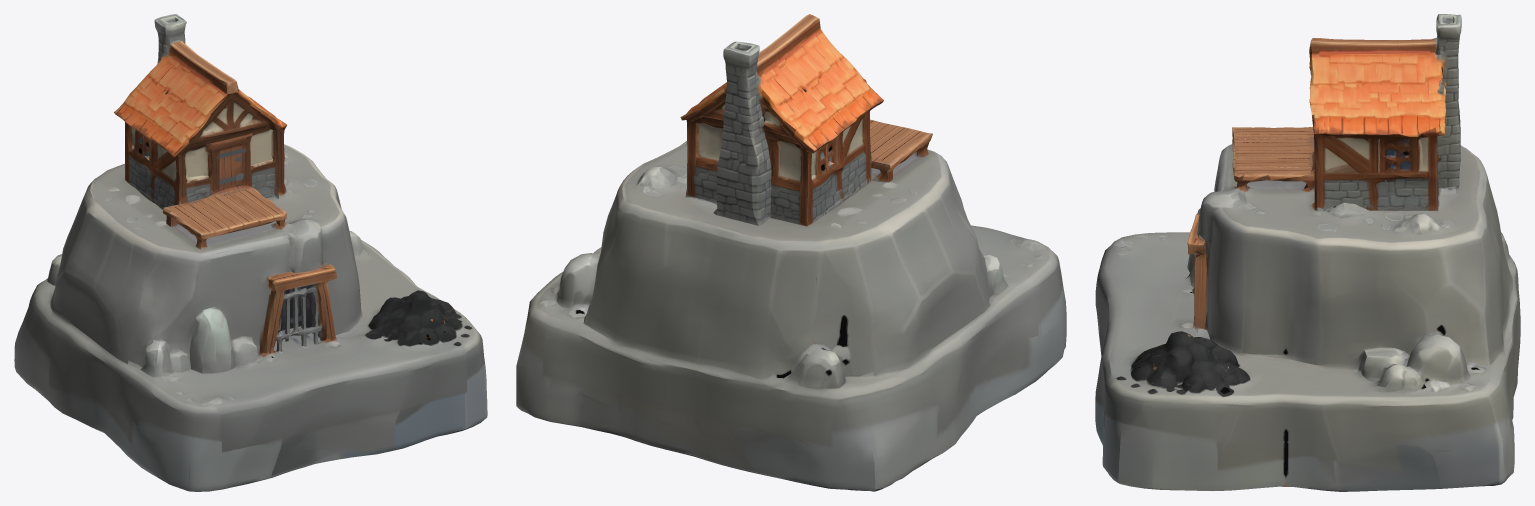
File: QuaryModel.fbx
3 renders of one model, left to right at view 1: azimuth 30°, elevation 25°; view 2: azimuth 150°, elevation 25°; view 3: azimuth 270°, elevation 25°, orthographic. The views are drawn at different scales.
Visible parts, largest first — view 1: Mesh0; view 2: Mesh0; view 3: Mesh0.
Part boxes in pixels (<box>): Mesh0: <box>14,14,487,491</box>; Mesh0: <box>516,14,1066,491</box>; Mesh0: <box>1095,14,1520,491</box>.
Bounding box in the file's own units: 190 × 184 × 189.
1 material, 1 textured.
